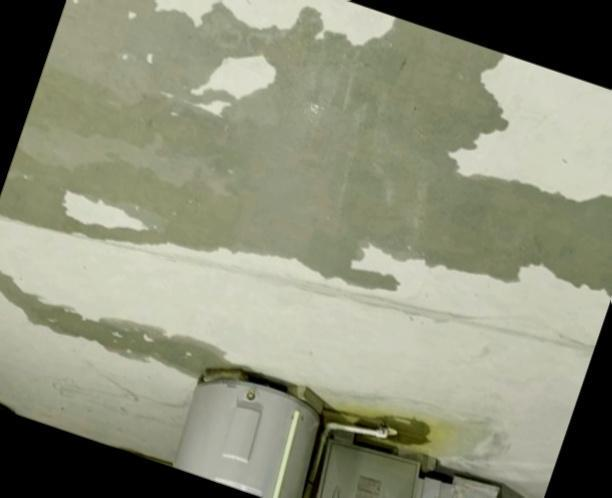water accumulation: (0, 0, 612, 297), (0, 258, 231, 386)
